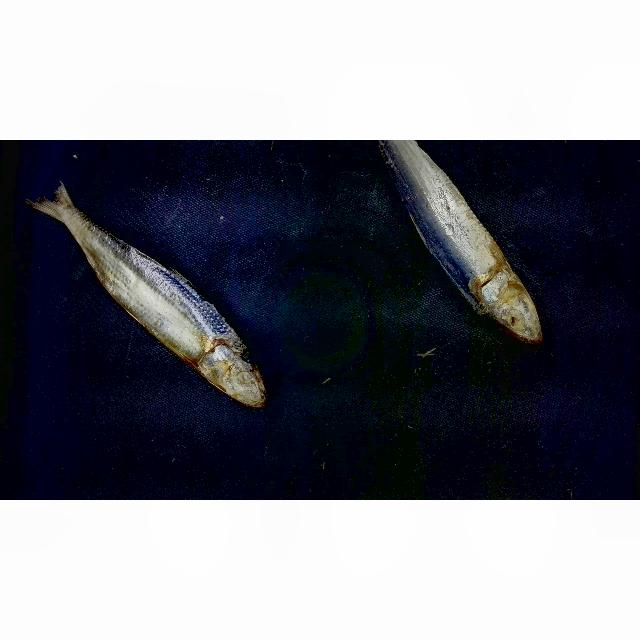Grade_A_Body: (84, 266, 255, 353), (394, 177, 522, 283)
Grade_A_Head: (451, 291, 553, 352), (185, 355, 275, 414)
Grade_A_Tail: (17, 165, 163, 252)
